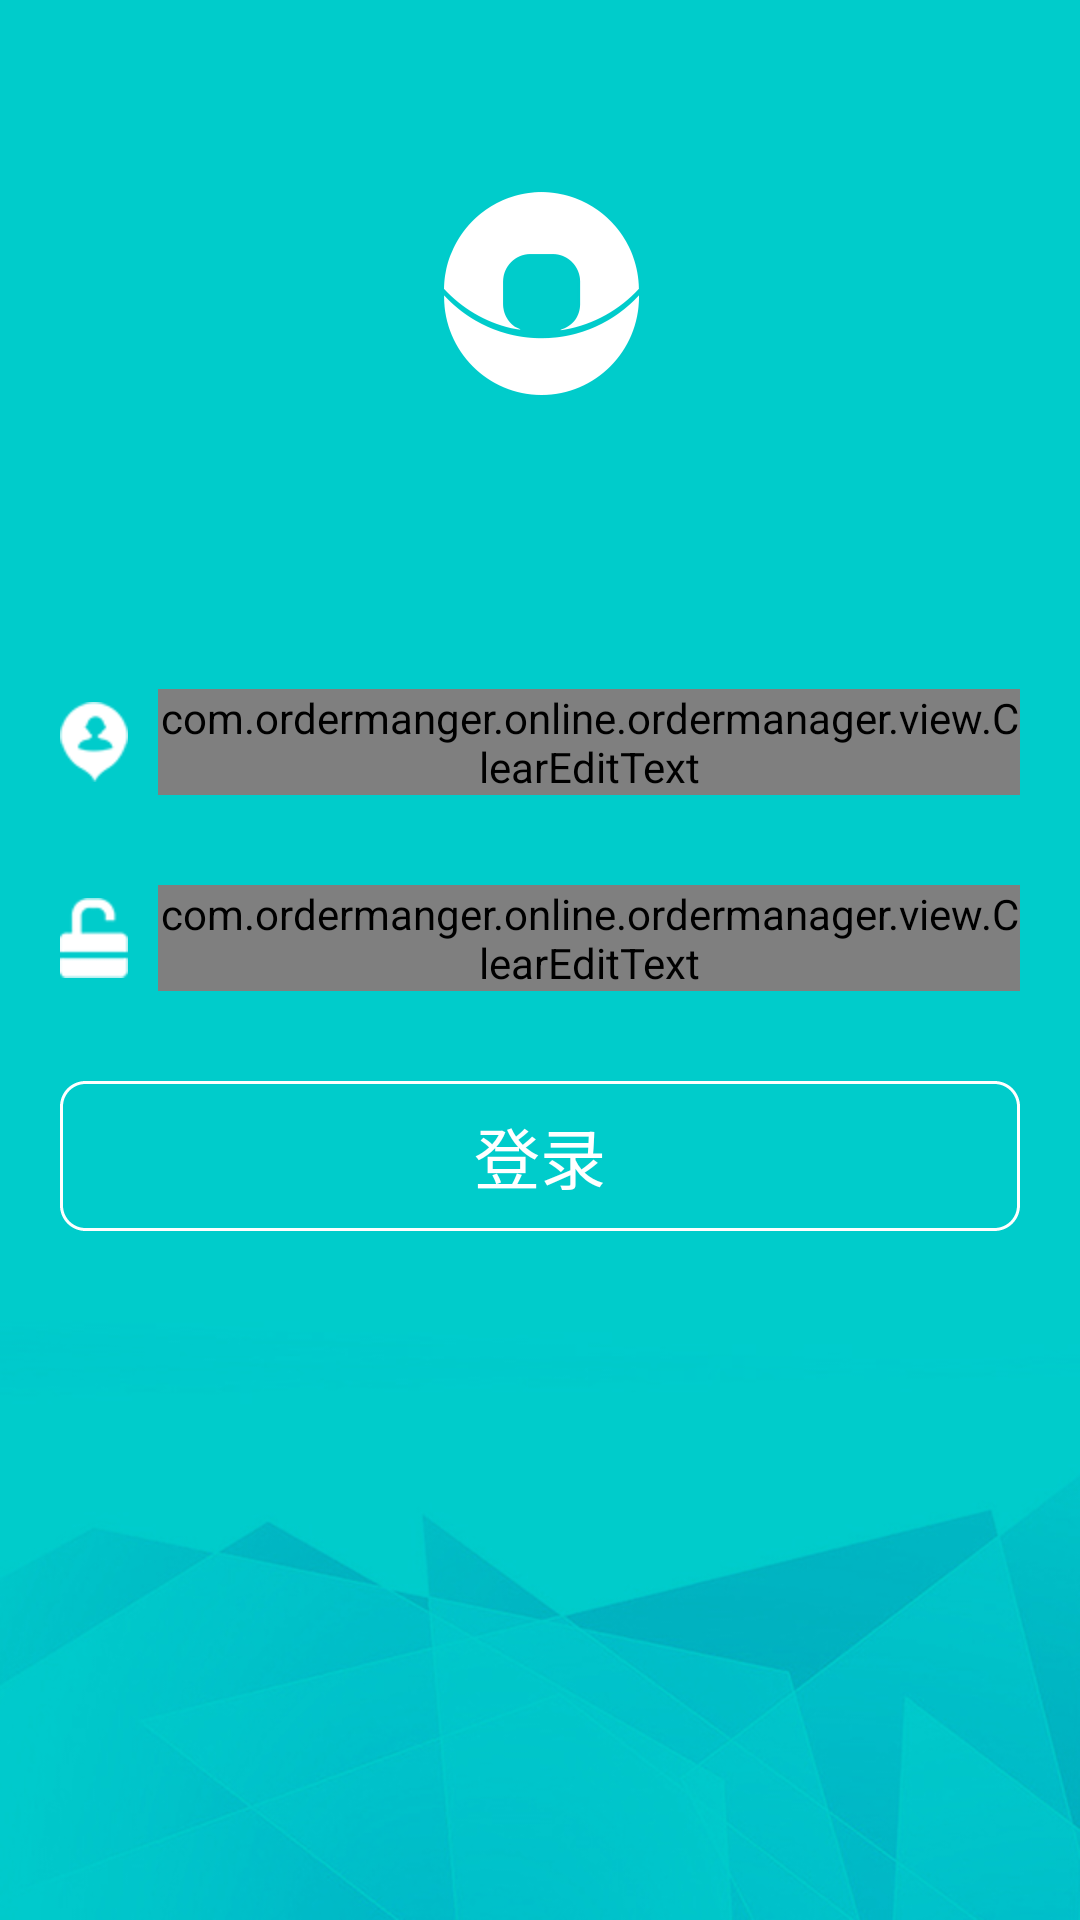

Icon click points for this 1080w x 1920h phone screenshot, format (x,y):
denglu cipher: (94,938)
denglu name: (94,742)
